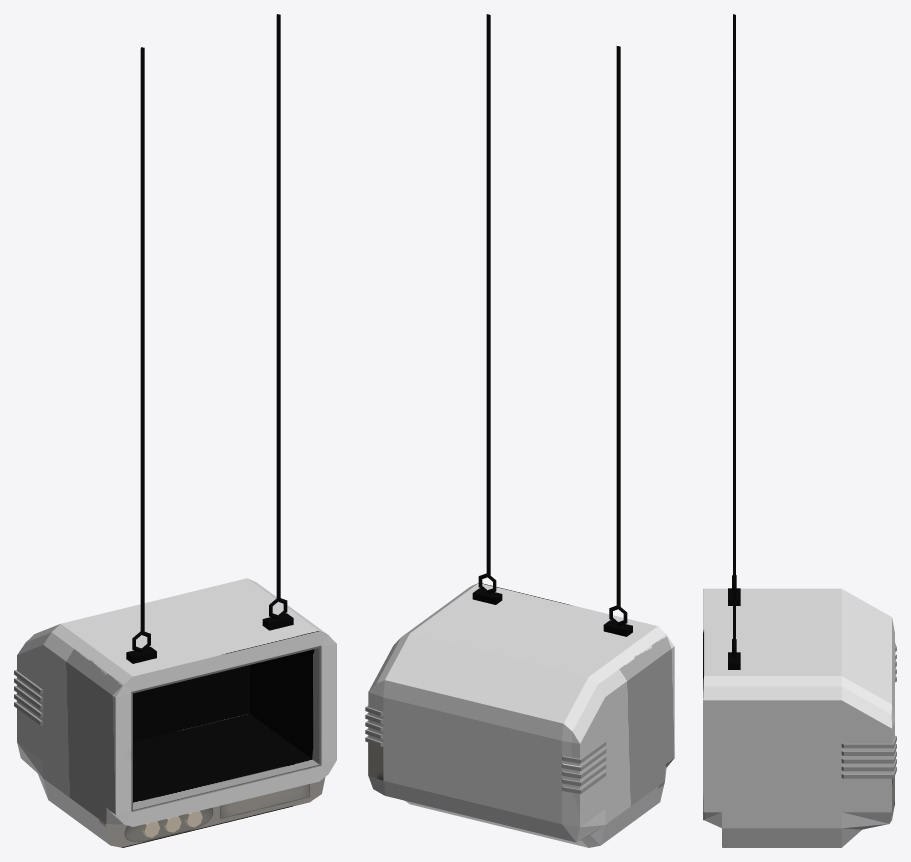
Rendered from TVBlack.obj.
3 renders of one model, left to right at view 1: azimuth 30°, elevation 25°; view 2: azimuth 150°, elevation 25°; view 3: azimuth 270°, elevation 25°, orthographic. The views are drawn at different scales.
Visible parts, largest first — view 1: Cube; view 2: Cube; view 3: Cube.
Boxes of the visible parts, x1=… form: Cube: x1=14, y1=14, x2=336, y2=847; Cube: x1=365, y1=14, x2=674, y2=847; Cube: x1=703, y1=14, x2=896, y2=847.
Bounding box in the file's own units: 2.64 × 8.84 × 2.05.
1 material, 1 textured.
